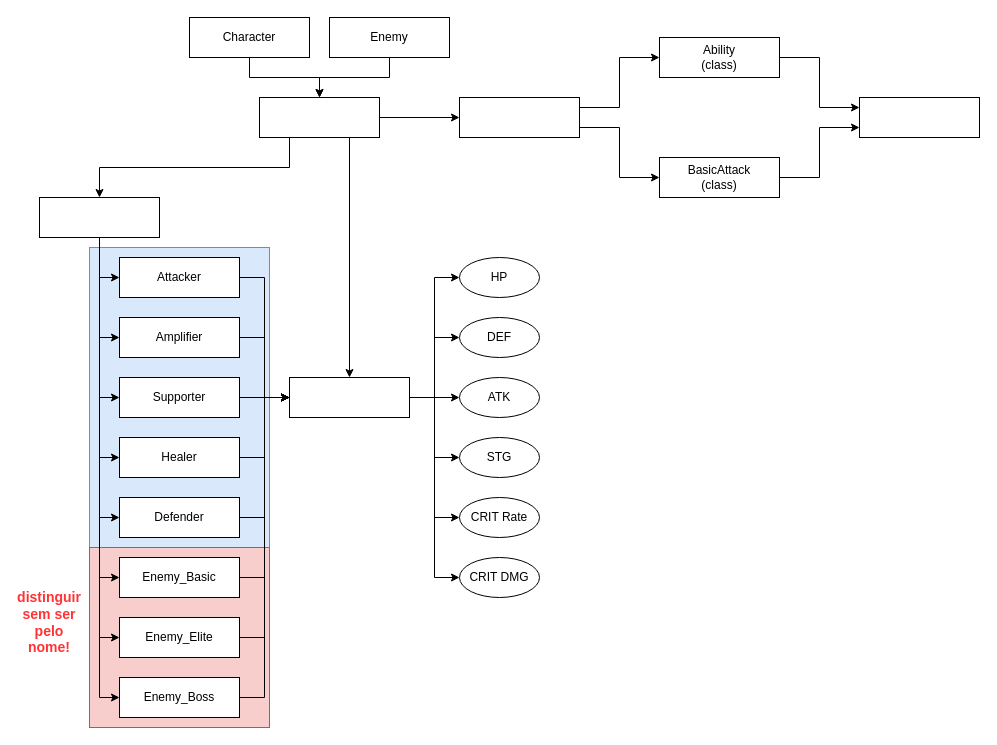
This 997x745 diagram has some shape labels left out. Each missing label, with the box of its shape:
Entity: (258, 96, 380, 138)
Move (interface): (858, 96, 980, 138)
MoveSet (data class): (458, 96, 580, 138)
Role: (38, 196, 160, 238)
Stats: (288, 376, 410, 418)
